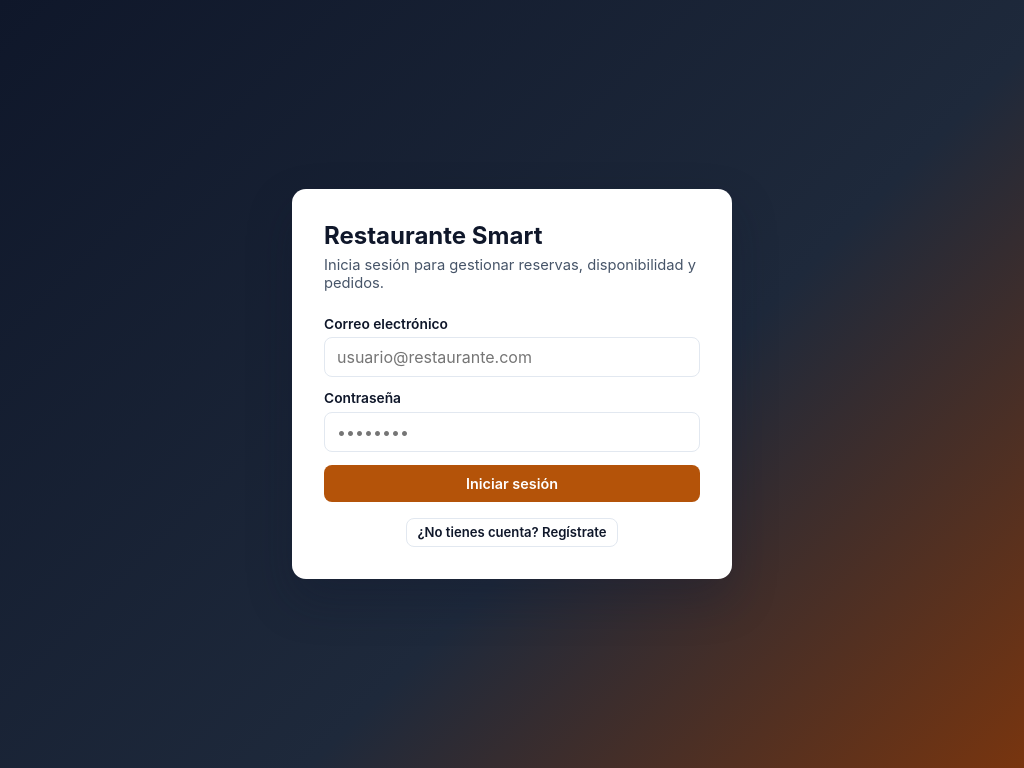
Test: Fase 15 — Cobertura integral de servicios, RBAC, flujos y edge cases › limpia sesión inválida al iniciar y LoginPage valida formato de correo
Check: the heading "Restaurante Smart" is shown, box [324,221,542,250]
Type "correo-invalido" into the field labelled "Correo electrónico" at (512, 357), box [324,337,700,377]
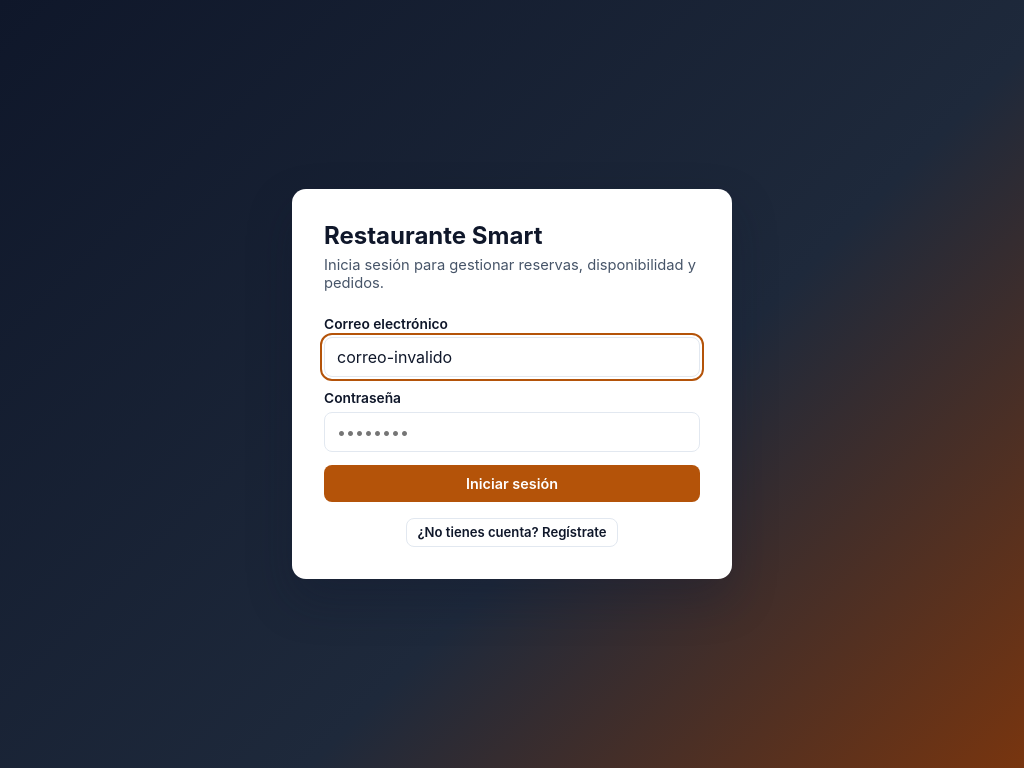
Type "Password123!" into the password field labelled "Contraseña" at (512, 432), box [324,412,700,452]
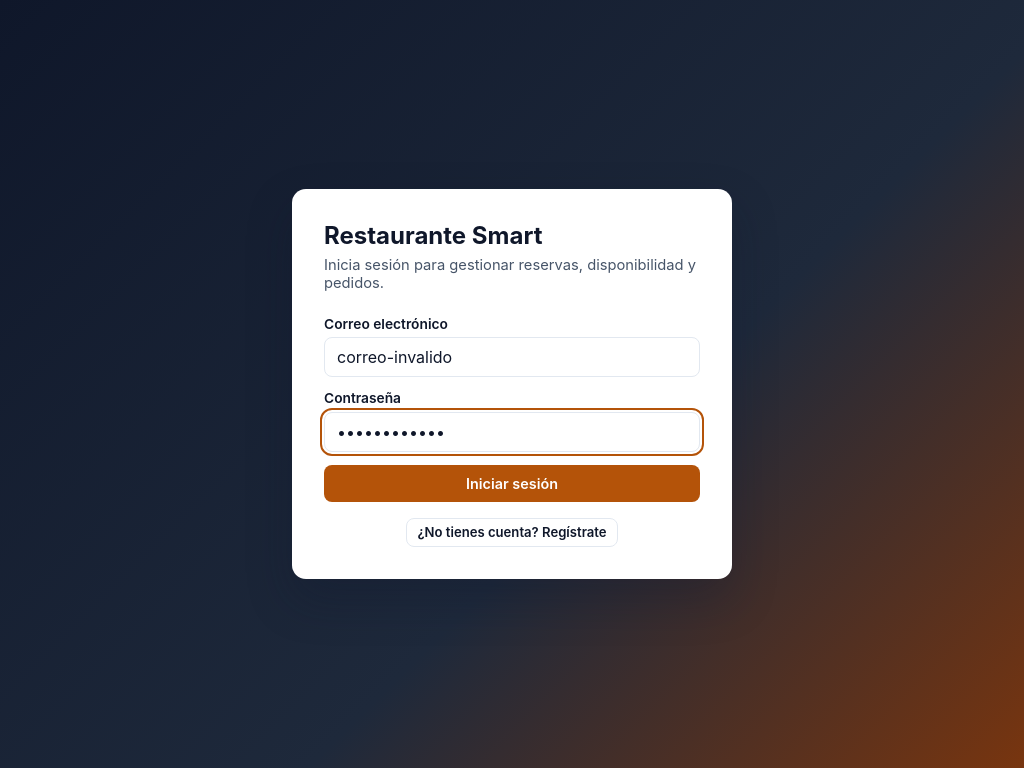
Click the button "Iniciar sesión" at (512, 484), box [324,465,700,502]
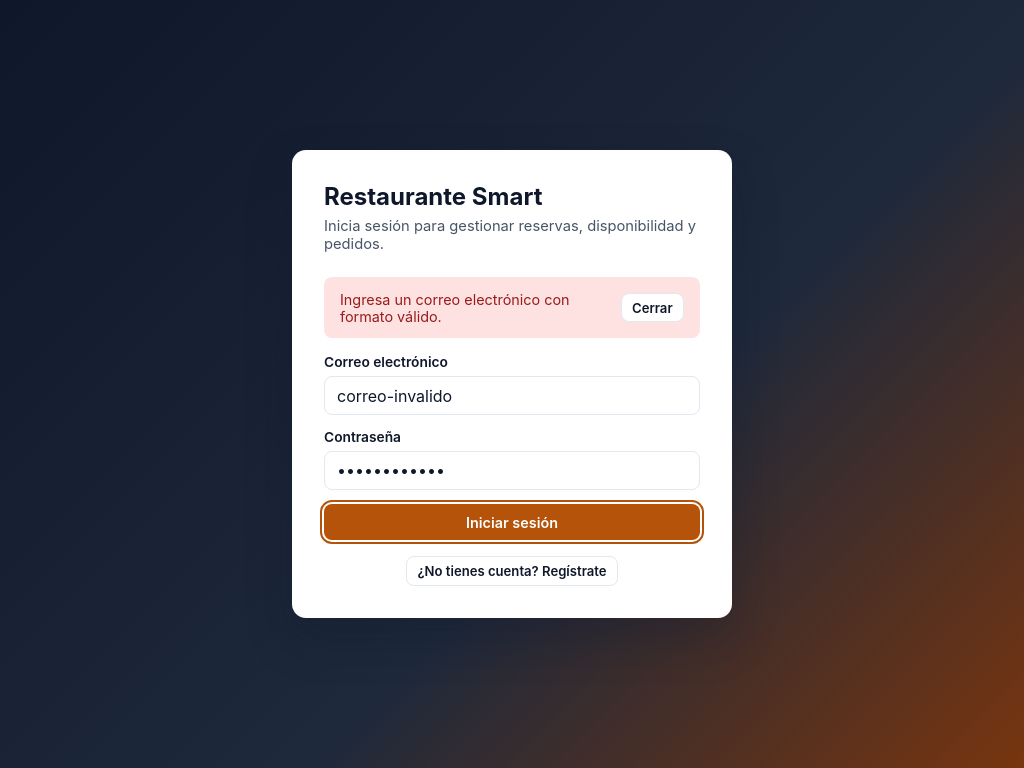
Check: the message shows "Ingresa un correo electrónico con formato válido.", box [340,291,570,325]
